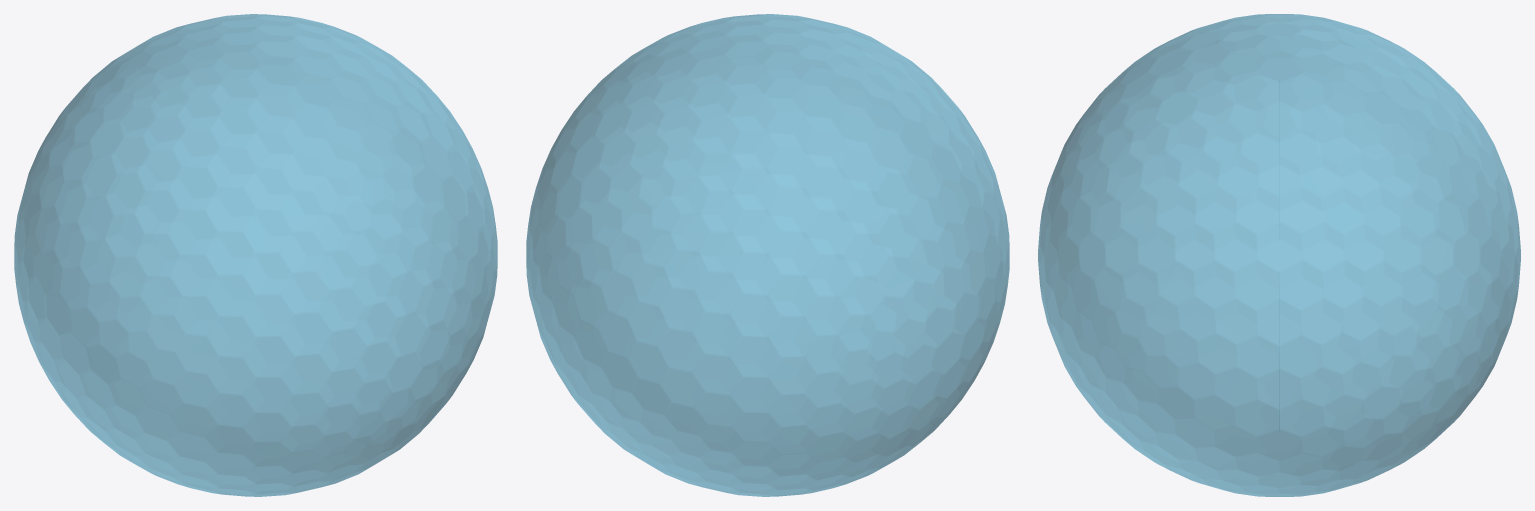
The model's file is Hex.fbx.
3 views of the same model, side by side, from view 1: azimuth 30°, elevation 25°; view 2: azimuth 150°, elevation 25°; view 3: azimuth 270°, elevation 25° (orthographic).
Visible parts, largest first — view 1: Sphere_6; view 2: Sphere_6; view 3: Sphere_6.
Boxes of the visible parts, box(x1,y1,x2,y2) form: Sphere_6: box(14, 14, 497, 496); Sphere_6: box(526, 14, 1009, 496); Sphere_6: box(1038, 14, 1520, 496).
Bounding box in the file's own units: 199 × 199 × 199.
